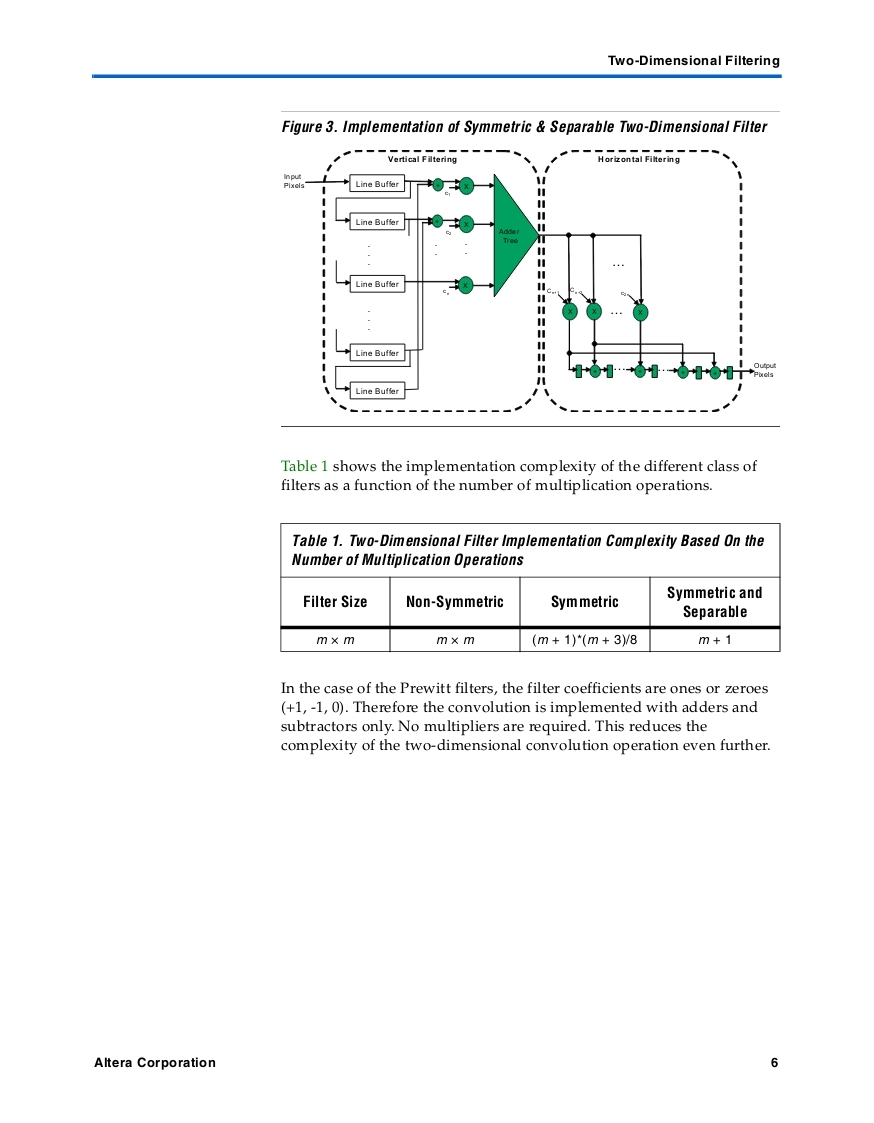Table: (280, 522, 780, 653)
figure: (284, 149, 775, 412)
